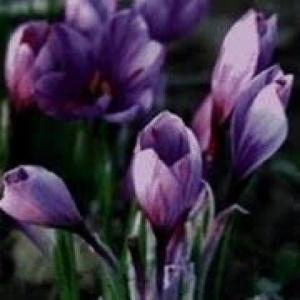Saffron: (43, 19, 159, 124), (134, 114, 201, 261), (230, 66, 293, 214), (212, 6, 279, 143), (0, 162, 94, 246)
